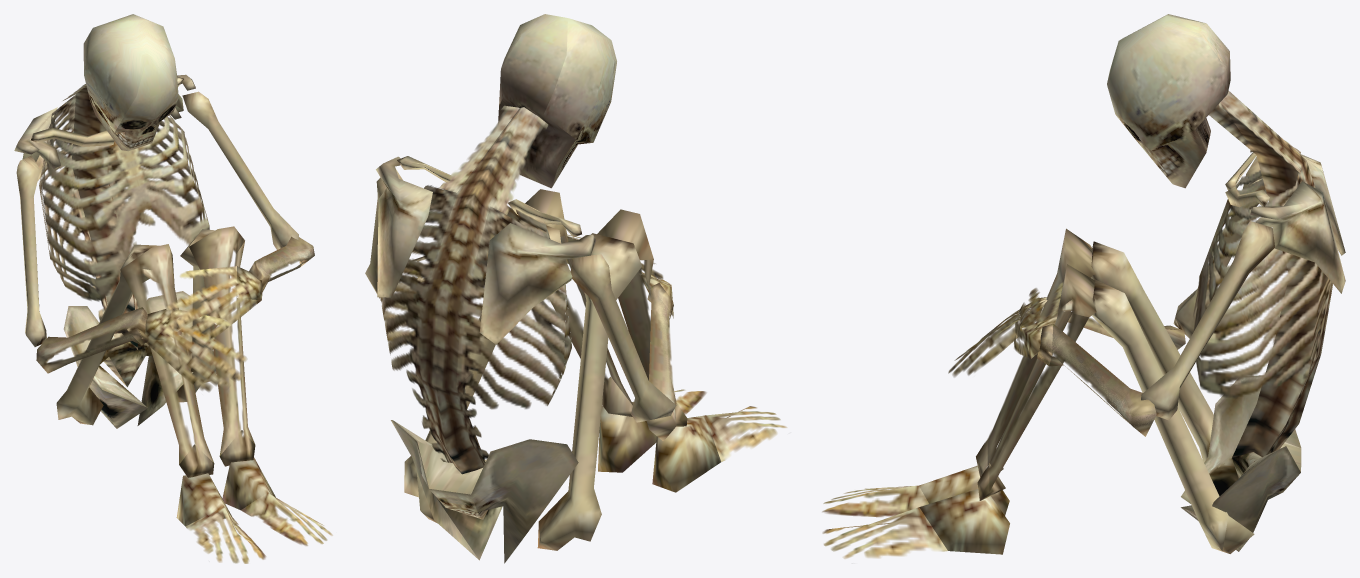
The model's file is d_sk_sit3.glb.
The picture shows the model from 3 angles, left to right: view 1: azimuth 30°, elevation 25°; view 2: azimuth 150°, elevation 25°; view 3: azimuth 270°, elevation 25°; orthographic projection. The views are drawn at different scales.
Parts seen in each view (by area): view 1: d_sk_sit3; view 2: d_sk_sit3; view 3: d_sk_sit3.
Boxes of the visible parts, x1=… form: d_sk_sit3: x1=14, y1=14, x2=332, y2=563; d_sk_sit3: x1=365, y1=14, x2=787, y2=563; d_sk_sit3: x1=822, y1=14, x2=1345, y2=558.
Size of the model in its own units: 0.5338 by 0.8331 by 0.7707.
2 materials, 2 textured.
